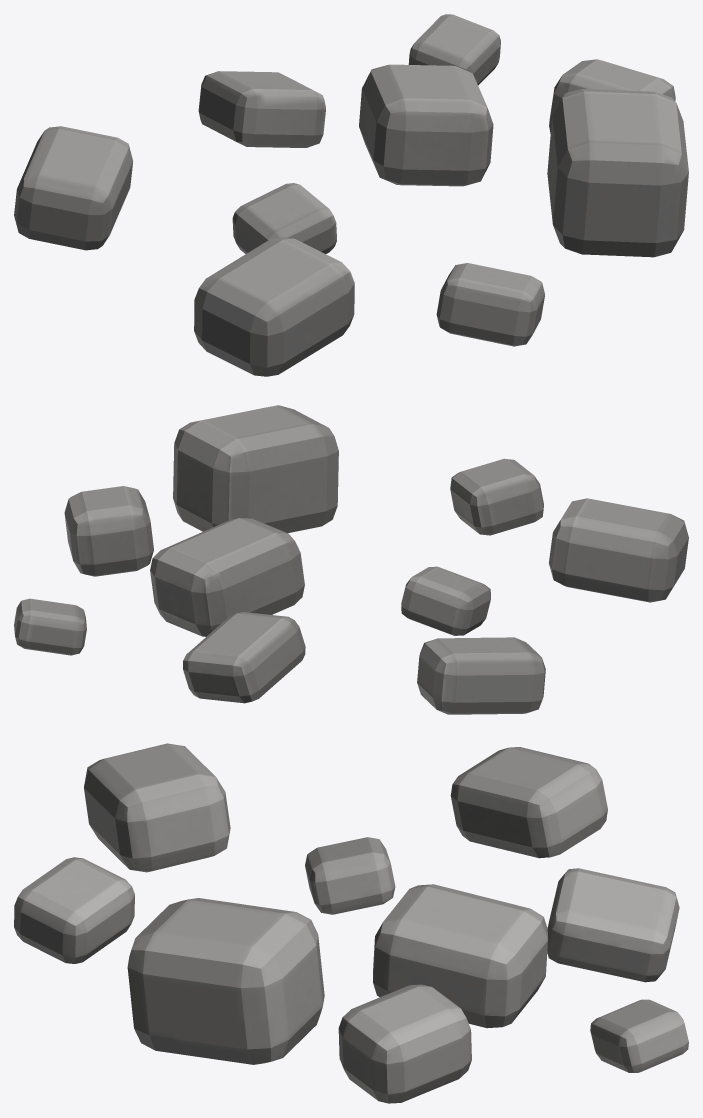
The model's file is pebbles.glb.
3 views of the same model, one above another, from view 1: azimuth 30°, elevation 25°; view 2: azimuth 150°, elevation 25°; view 3: azimuth 270°, elevation 25° (orthographic). The views are drawn at different scales.
Visible parts, largest first — view 1: pebbles; view 2: pebbles; view 3: pebbles.
Part boxes in pixels (left/top/right/bottom): pebbles: left=14, top=14, right=688, bottom=376; pebbles: left=14, top=405, right=688, bottom=714; pebbles: left=14, top=743, right=688, bottom=1103.
Size of the model in its own units: 1.05 by 0.2189 by 0.9794.
Materials: 1 (1 with a texture image).
